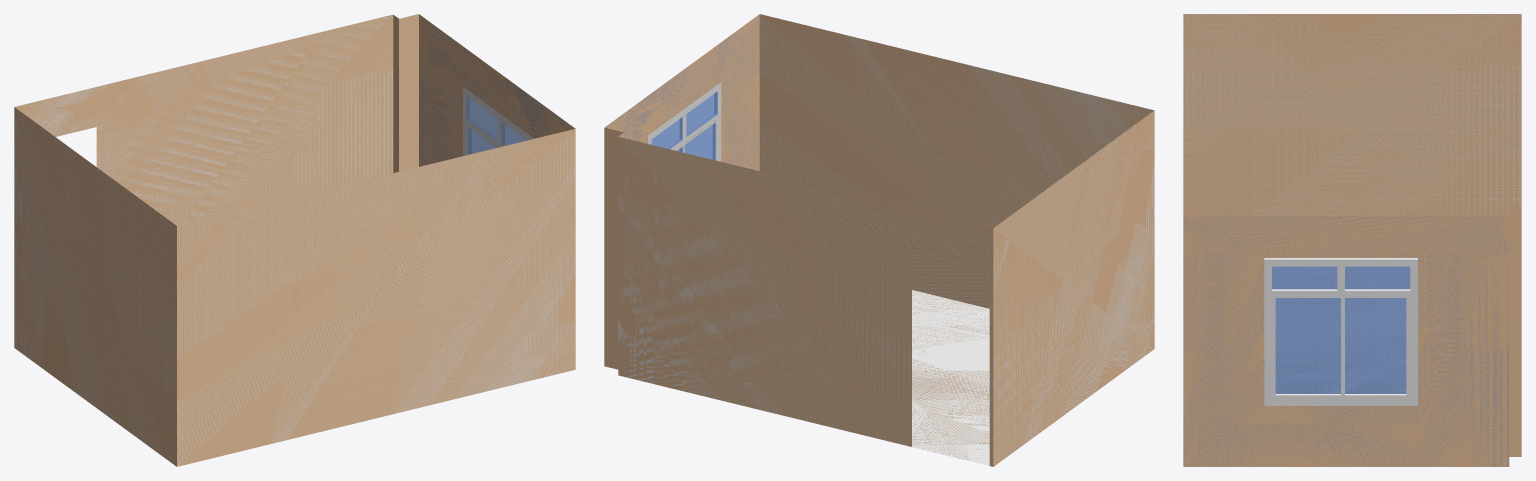
The model's file is DES034.obj.
3 views of the same model, side by side, from view 1: azimuth 30°, elevation 25°; view 2: azimuth 150°, elevation 25°; view 3: azimuth 270°, elevation 25° (orthographic). The views are drawn at different scales.
Parts seen in each view (by area): view 1: Mesh9 DES034 Model, Mesh1 ventana5_1 DES034 Model; view 2: Mesh9 DES034 Model, Mesh1 ventana5_1 DES034 Model; view 3: Mesh9 DES034 Model, Mesh1 ventana5_1 DES034 Model.
Boxes of the visible parts, x1=… form: Mesh9 DES034 Model: x1=14, y1=14, x2=575, y2=466; Mesh1 ventana5_1 DES034 Model: x1=463, y1=86, x2=533, y2=155; Mesh9 DES034 Model: x1=604, y1=14, x2=1154, y2=466; Mesh1 ventana5_1 DES034 Model: x1=648, y1=82, x2=721, y2=161; Mesh9 DES034 Model: x1=1183, y1=14, x2=1521, y2=466; Mesh1 ventana5_1 DES034 Model: x1=1264, y1=258, x2=1417, y2=405.
Bounding box in the file's own units: 6.28 × 3.6 × 4.4.
Materials: 7 (2 with a texture image).
